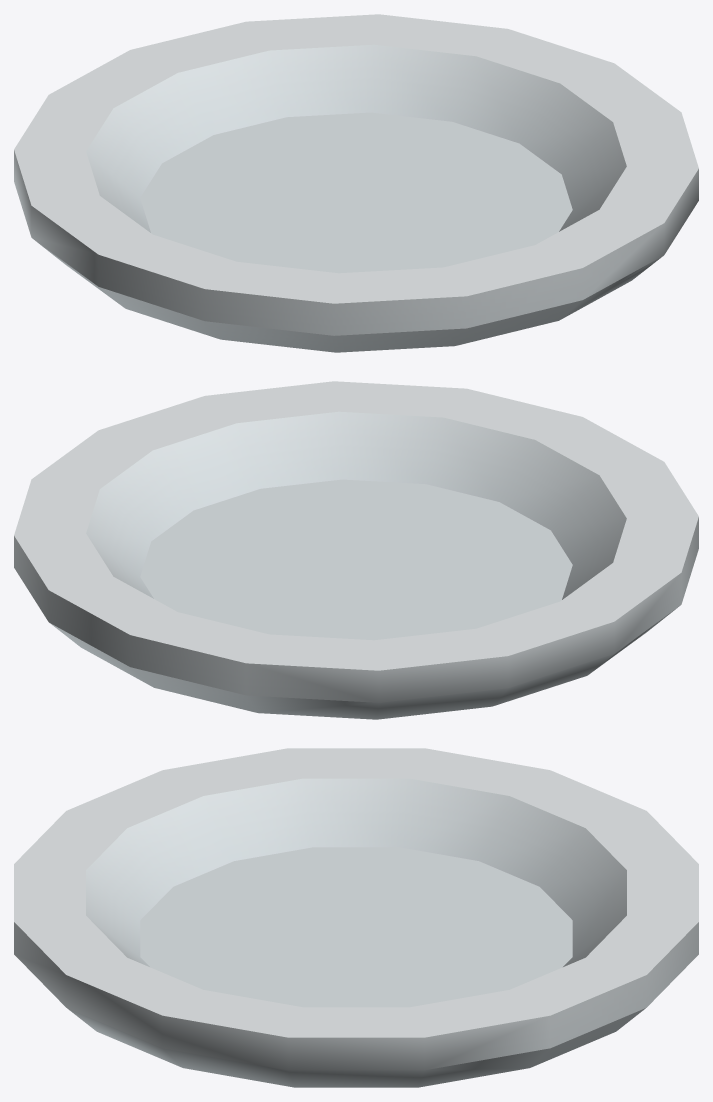
Rendered from Plate.glb.
The picture shows the model from 3 angles, top to bottom: view 1: azimuth 30°, elevation 25°; view 2: azimuth 150°, elevation 25°; view 3: azimuth 270°, elevation 25°; orthographic projection.
Visible parts, largest first — view 1: plate; view 2: plate; view 3: plate.
Part boxes in pixels (bbox=[...]): plate: bbox=[14, 14, 698, 352]; plate: bbox=[14, 381, 698, 719]; plate: bbox=[14, 748, 698, 1087].
Bounding box in the file's own units: 0.95 × 0.1 × 0.95.
1 material, 1 textured.
